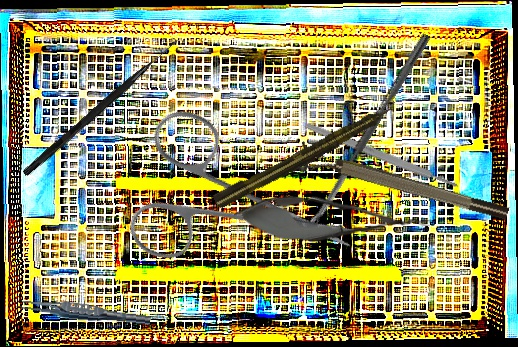Fixation Ring: (294, 139, 511, 234)
Handpiece: (211, 97, 402, 212)
Hook Surgical: (21, 35, 181, 179)
Iris Scissors: (89, 63, 360, 336)
Micro Scissor: (232, 191, 433, 247)
Scalpel Handle: (303, 120, 460, 191)
Surgical Spoon: (304, 32, 431, 234)
Tissue Forceps: (15, 295, 152, 329)
